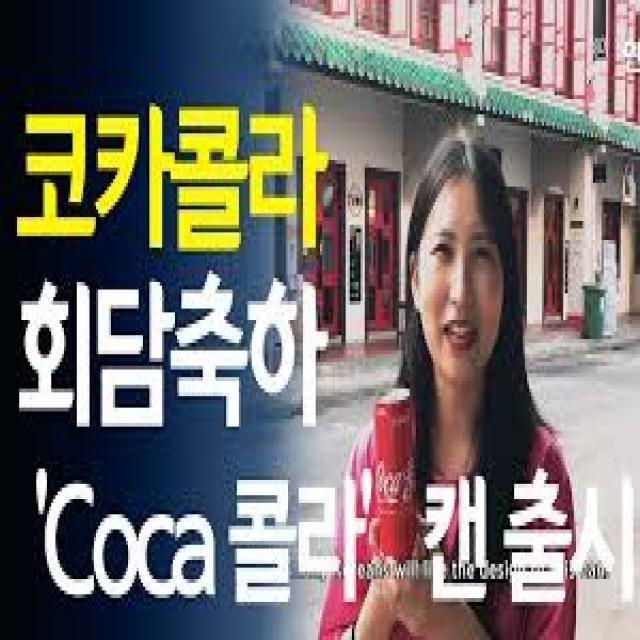coca-cola: (372, 386, 421, 568)
